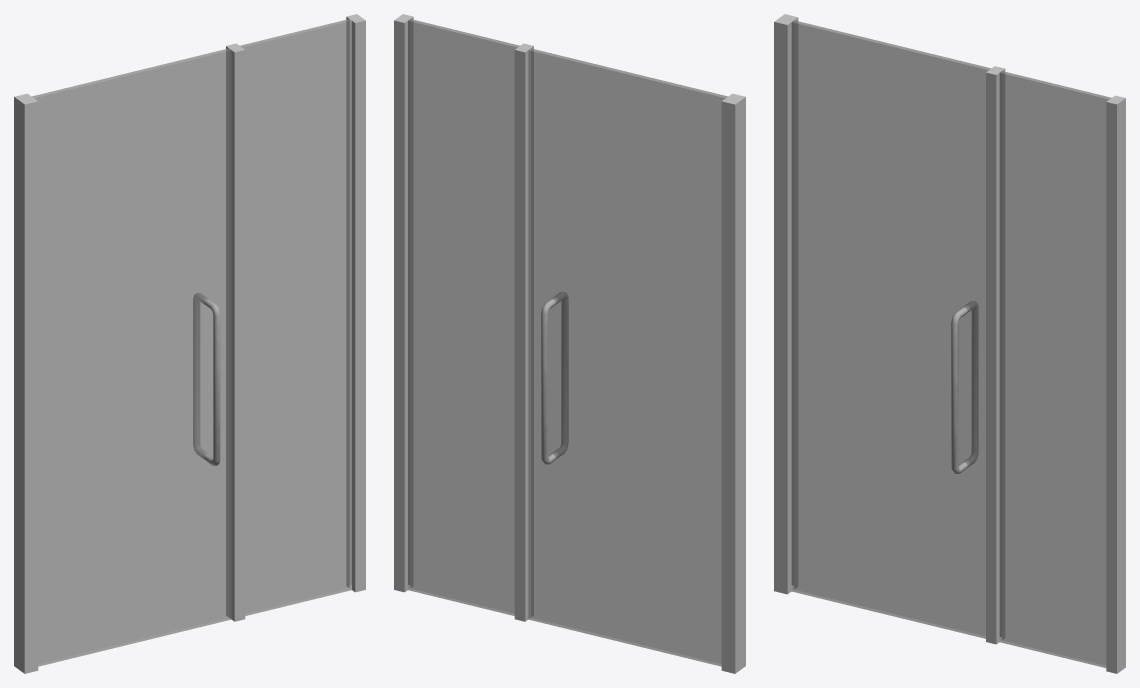
File: door02.FBX
3 views of the same model, side by side, from view 1: azimuth 30°, elevation 25°; view 2: azimuth 150°, elevation 25°; view 3: azimuth 330°, elevation 25° (orthographic).
Parts seen in each view (by area): view 1: entrance, entrance_nm; view 2: entrance, entrance_nm; view 3: entrance, entrance_nm.
Boxes of the visible parts, x1=… form: entrance: x1=14, y1=48, x2=231, y2=673; entrance_nm: x1=226, y1=14, x2=365, y2=621; entrance: x1=528, y1=48, x2=745, y2=673; entrance_nm: x1=394, y1=14, x2=533, y2=621; entrance: x1=774, y1=14, x2=990, y2=638; entrance_nm: x1=986, y1=66, x2=1125, y2=673.
Size of the model in its own units: 2.12 by 3.37 by 0.2568.
